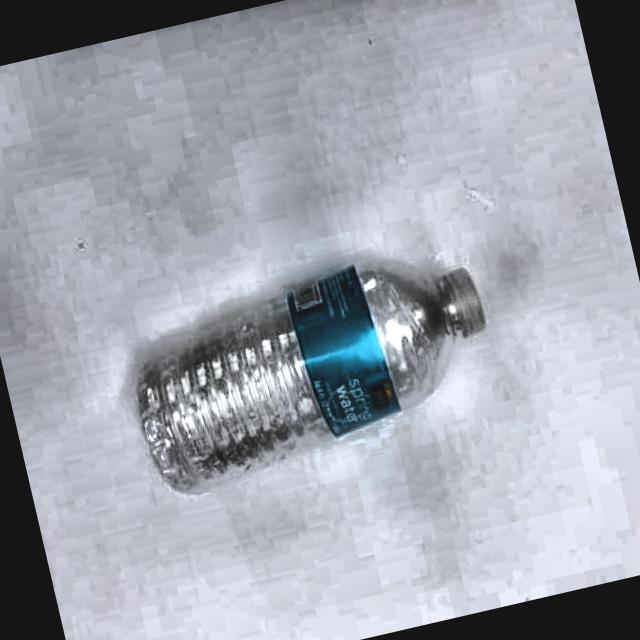plastic bottle: (136, 267, 485, 492)
